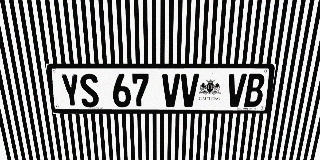6: (112, 74, 131, 107)
7: (131, 74, 149, 107)
B: (244, 74, 266, 107)
S: (79, 74, 100, 107)
V: (226, 74, 247, 107), (180, 74, 199, 107), (162, 74, 180, 107)
Y: (60, 74, 81, 107)
